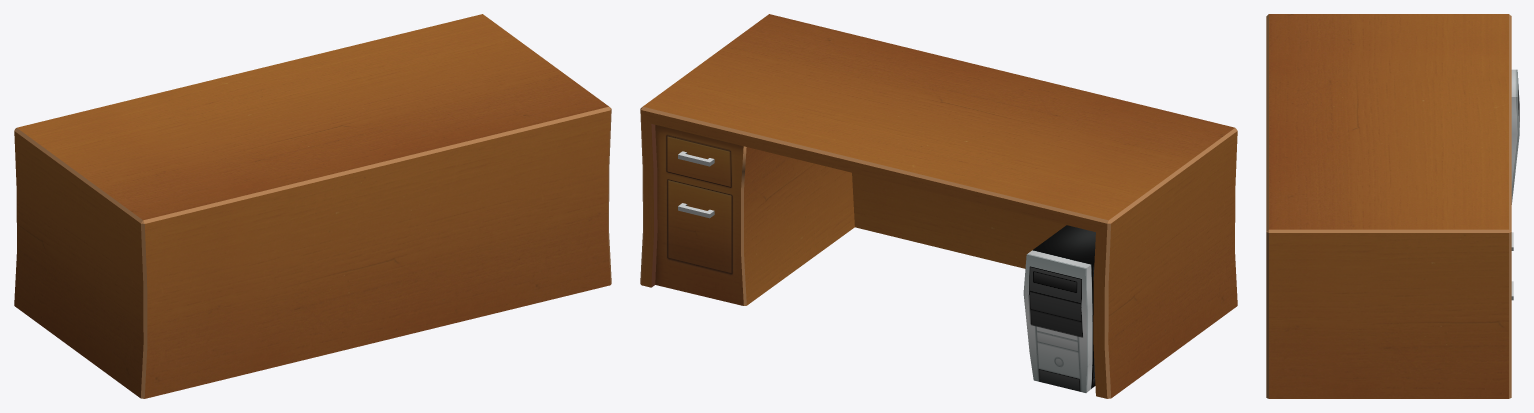
File: SM_Desk_Thrower.fbx
3 renders of one model, left to right at view 1: azimuth 30°, elevation 25°; view 2: azimuth 150°, elevation 25°; view 3: azimuth 270°, elevation 25°, orthographic. The views are drawn at different scales.
Visible parts, largest first — view 1: SM_desk_thrower; view 2: SM_desk_thrower; view 3: SM_desk_thrower.
Part boxes in pixels (x1,y1,x2,y2): SM_desk_thrower: [14, 14, 611, 398]; SM_desk_thrower: [640, 14, 1237, 398]; SM_desk_thrower: [1266, 14, 1519, 398].
Bounding box in the file's own units: 205 × 73.85 × 101.
2 materials, 2 textured.
